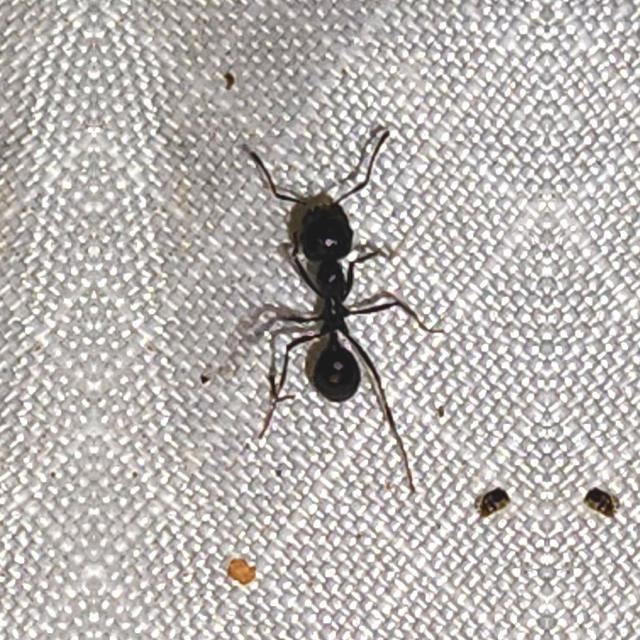Messor: (244, 176, 396, 440)
